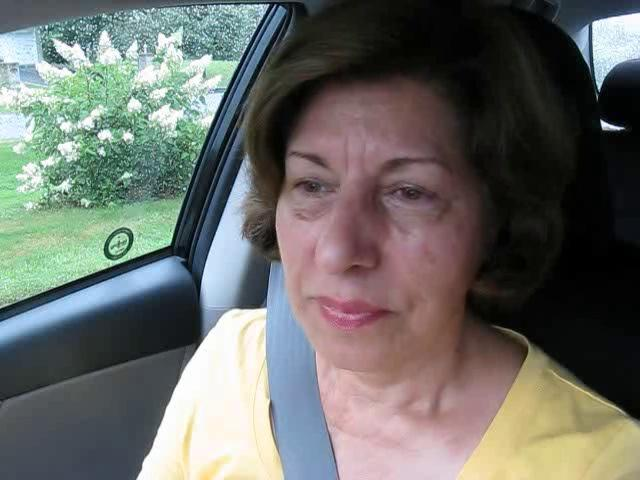close_eyeL: (279, 163, 347, 207)
close_eyeR: (370, 169, 459, 219)
no_yawn: (296, 285, 410, 347)
